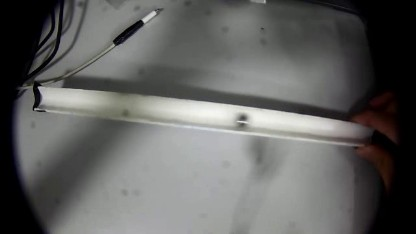gangzhu: (232, 112, 248, 127)
